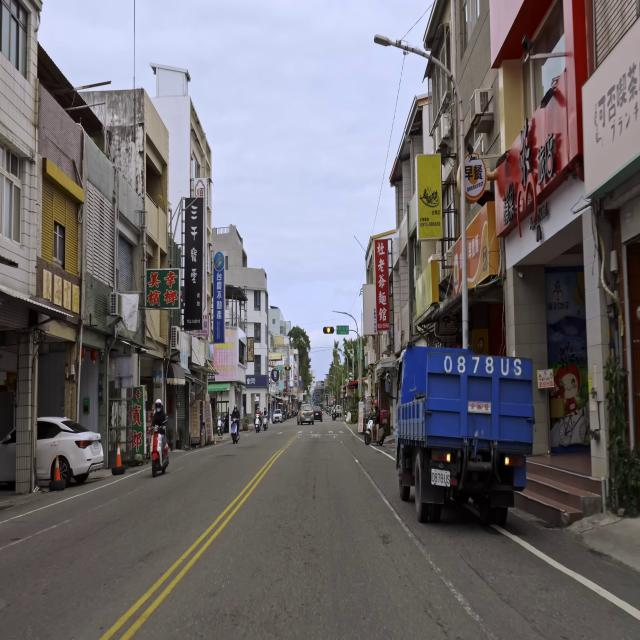yellow light: (323, 326, 334, 334)
